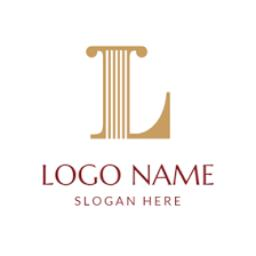l: (71, 37, 185, 155)
